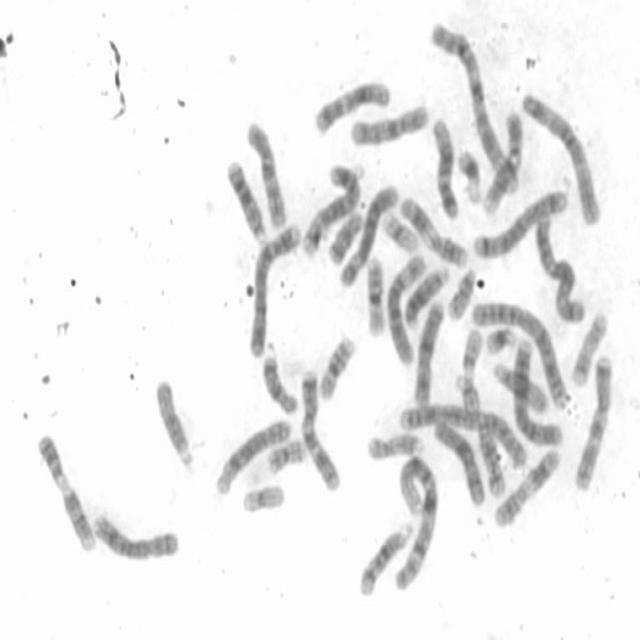A1: (427, 18, 520, 197), (391, 449, 441, 591)
A2: (470, 296, 569, 412), (396, 399, 531, 472)
A3: (517, 86, 603, 228), (532, 210, 587, 325)
B4: (245, 218, 302, 361), (508, 335, 564, 449)
B5: (471, 184, 569, 262), (298, 159, 365, 258)
C10: (243, 117, 289, 230), (348, 98, 431, 148)
C11: (491, 446, 562, 530), (396, 190, 470, 270)
C12: (310, 76, 392, 136), (430, 113, 459, 222)
C6: (334, 179, 400, 291), (383, 247, 429, 367)
C7: (569, 352, 614, 492), (297, 365, 341, 493)
C8: (211, 414, 293, 496), (89, 505, 182, 565)
C9: (34, 428, 98, 554), (480, 108, 525, 217)
D13: (223, 154, 269, 246), (401, 263, 452, 331)
D14: (356, 518, 414, 599), (475, 408, 507, 498)
D15: (152, 373, 197, 471), (490, 358, 549, 413)
E16: (316, 331, 356, 403), (362, 253, 386, 340)
E17: (568, 306, 609, 390), (364, 426, 426, 462)
E18: (259, 343, 299, 416), (324, 208, 365, 274)
F19: (380, 210, 420, 254), (240, 479, 286, 515)
F20: (446, 266, 477, 325), (265, 434, 308, 476)
G21: (454, 143, 483, 204), (482, 324, 517, 355)
G22: (458, 325, 484, 384), (452, 370, 480, 412)
X: (430, 415, 488, 507), (410, 296, 446, 406)
